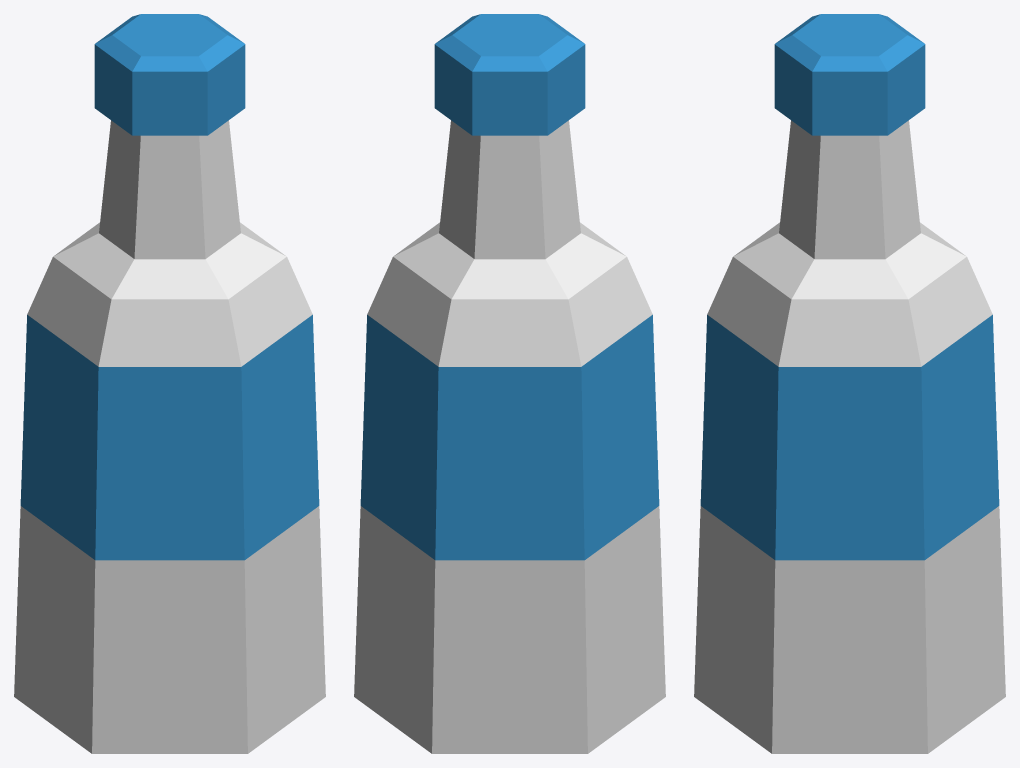
File: Bottle1.fbx
The picture shows the model from 3 angles, left to right: view 1: azimuth 30°, elevation 25°; view 2: azimuth 150°, elevation 25°; view 3: azimuth 270°, elevation 25°; orthographic projection.
Visible parts, largest first — view 1: Bottle1; view 2: Bottle1; view 3: Bottle1.
Boxes of the visible parts, left/top/right/bottom form: Bottle1: left=14, top=14, right=325, bottom=753; Bottle1: left=354, top=14, right=665, bottom=753; Bottle1: left=694, top=14, right=1005, bottom=753.
Bounding box in the file's own units: 0.1442 × 0.3899 × 0.1665.
